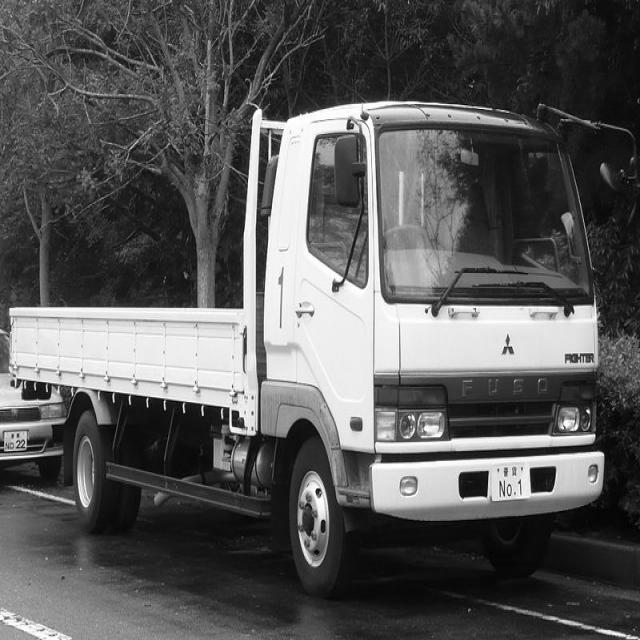truck: (234, 66, 624, 549)
